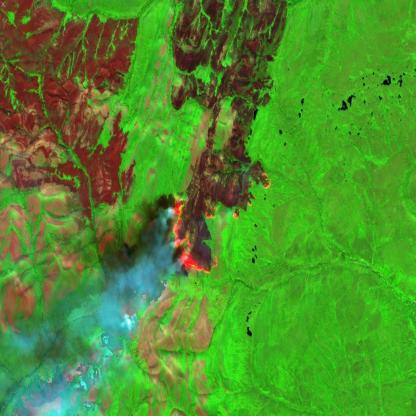fire: (167, 170, 275, 278)
